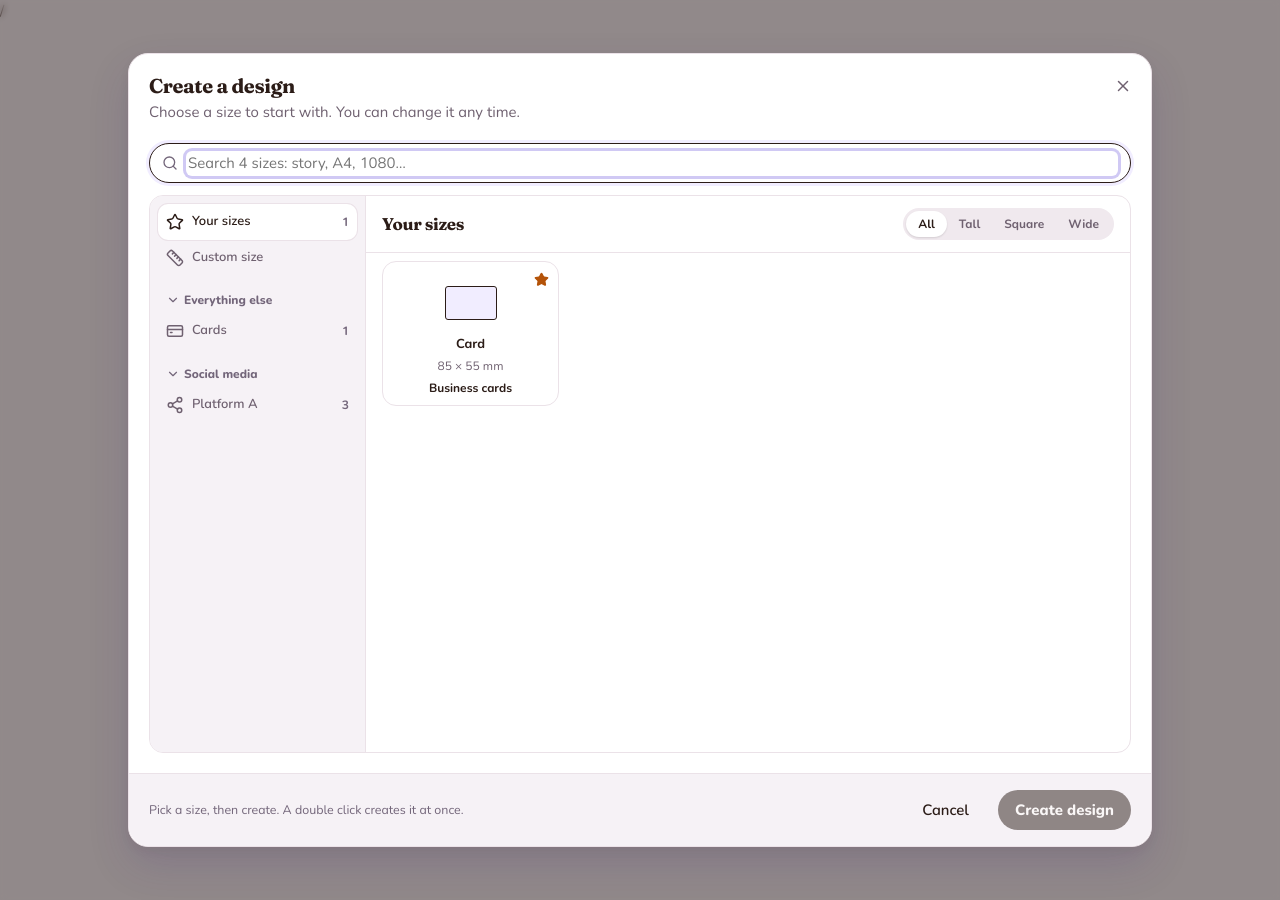
Create a design dialog › creates the chosen size, and remembers a folded section
Expected: the button "Create design" is disabled, [998, 790, 1131, 830]
Click the button "Card 85 × 55 mm Business cards".
click(470, 333)  # box [382, 261, 559, 406]
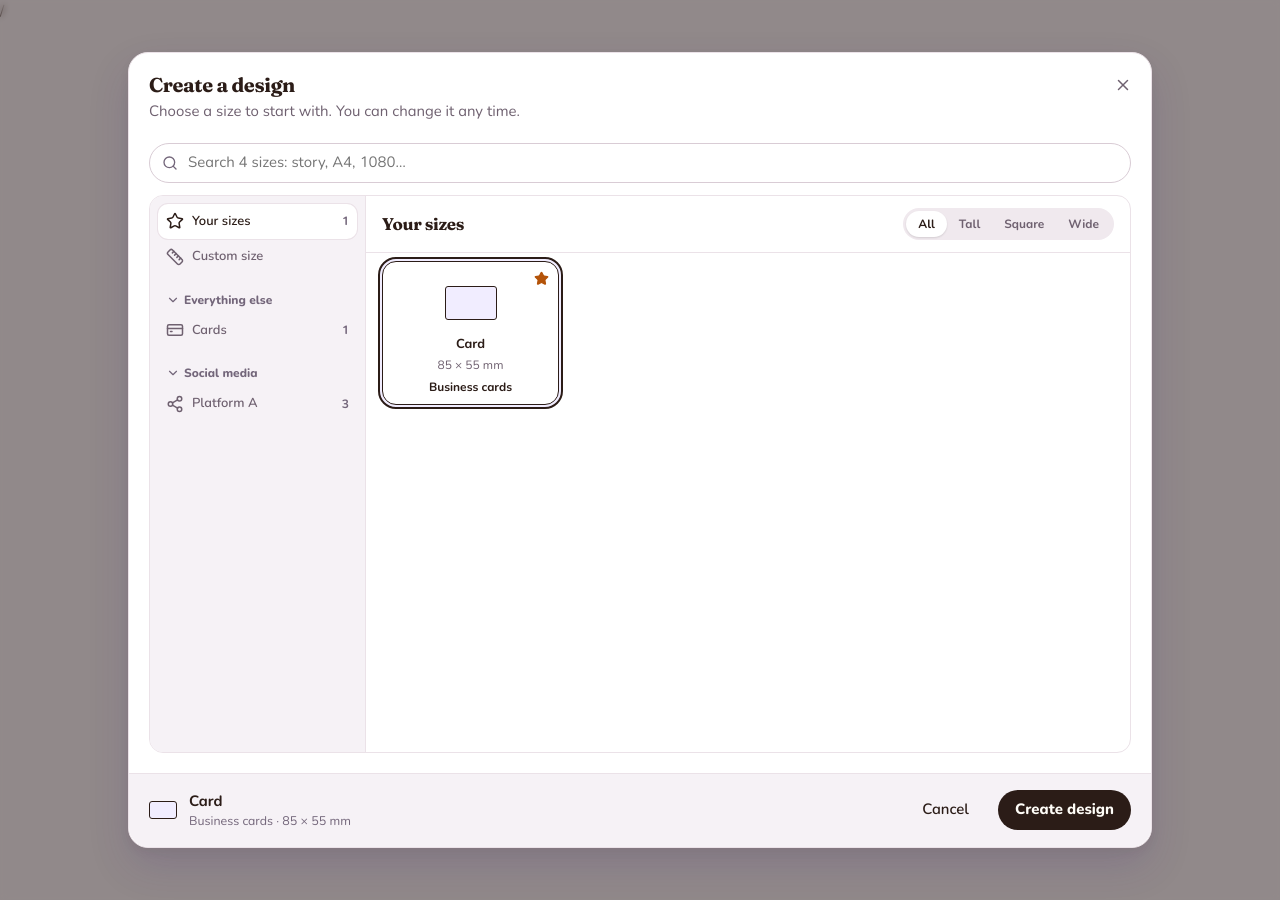
Click the button "Create design".
click(1064, 810)  # box [998, 790, 1131, 830]
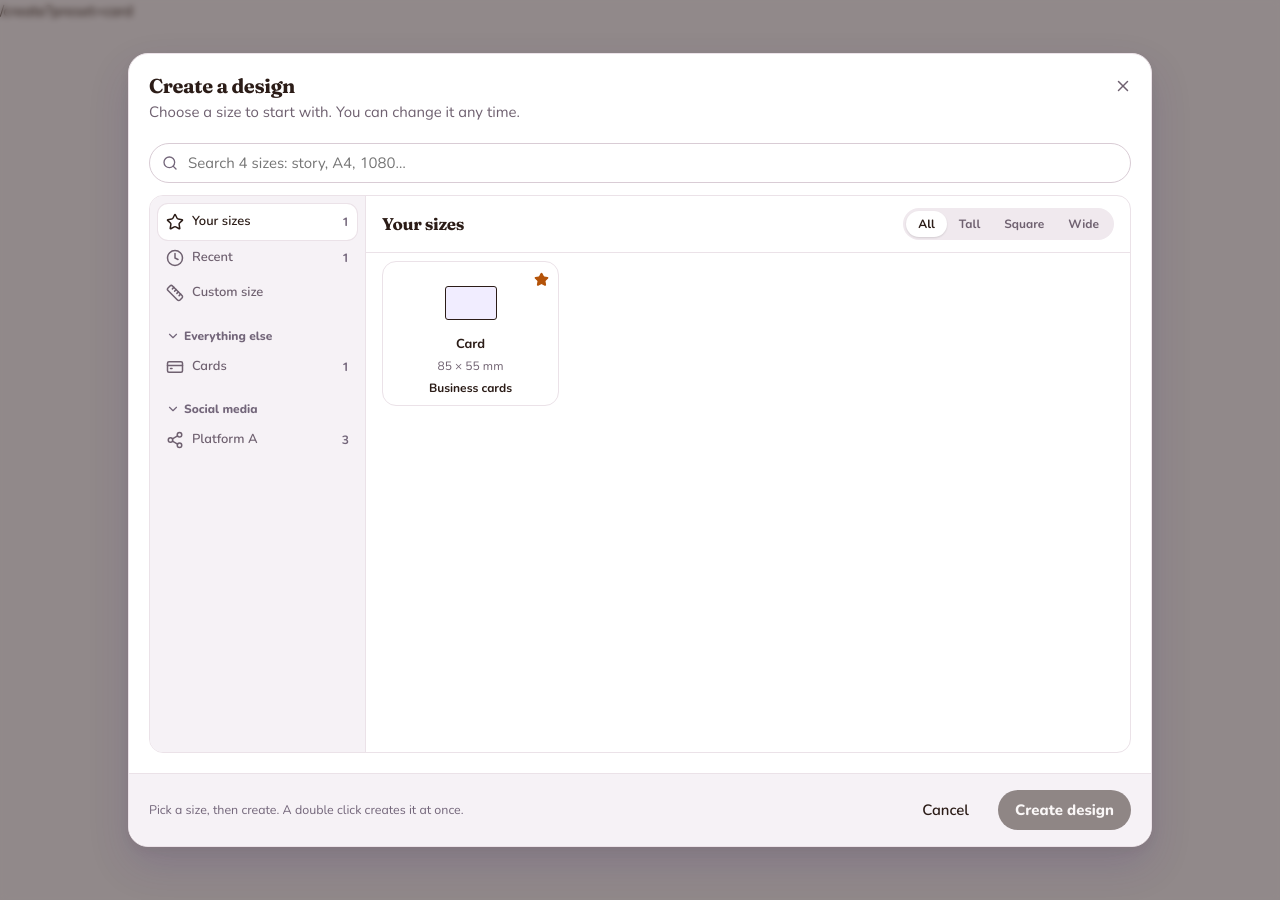
Result: the text with test id "location" reads "/create?preset=card" at [0, 1, 133, 21]
Click the button "Social media".
click(258, 407)  # box [158, 392, 357, 422]
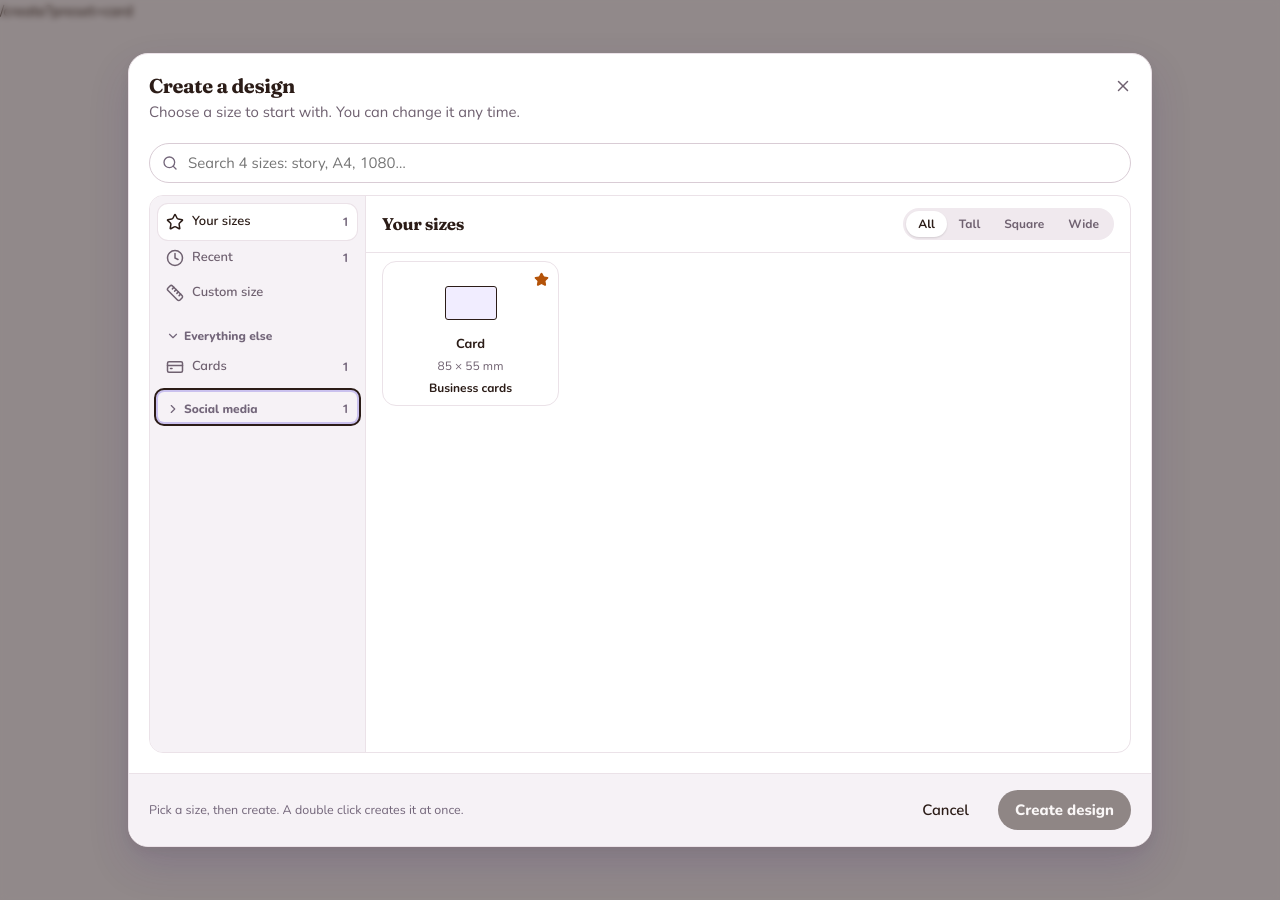
Result: the button "Platform A" is gone
